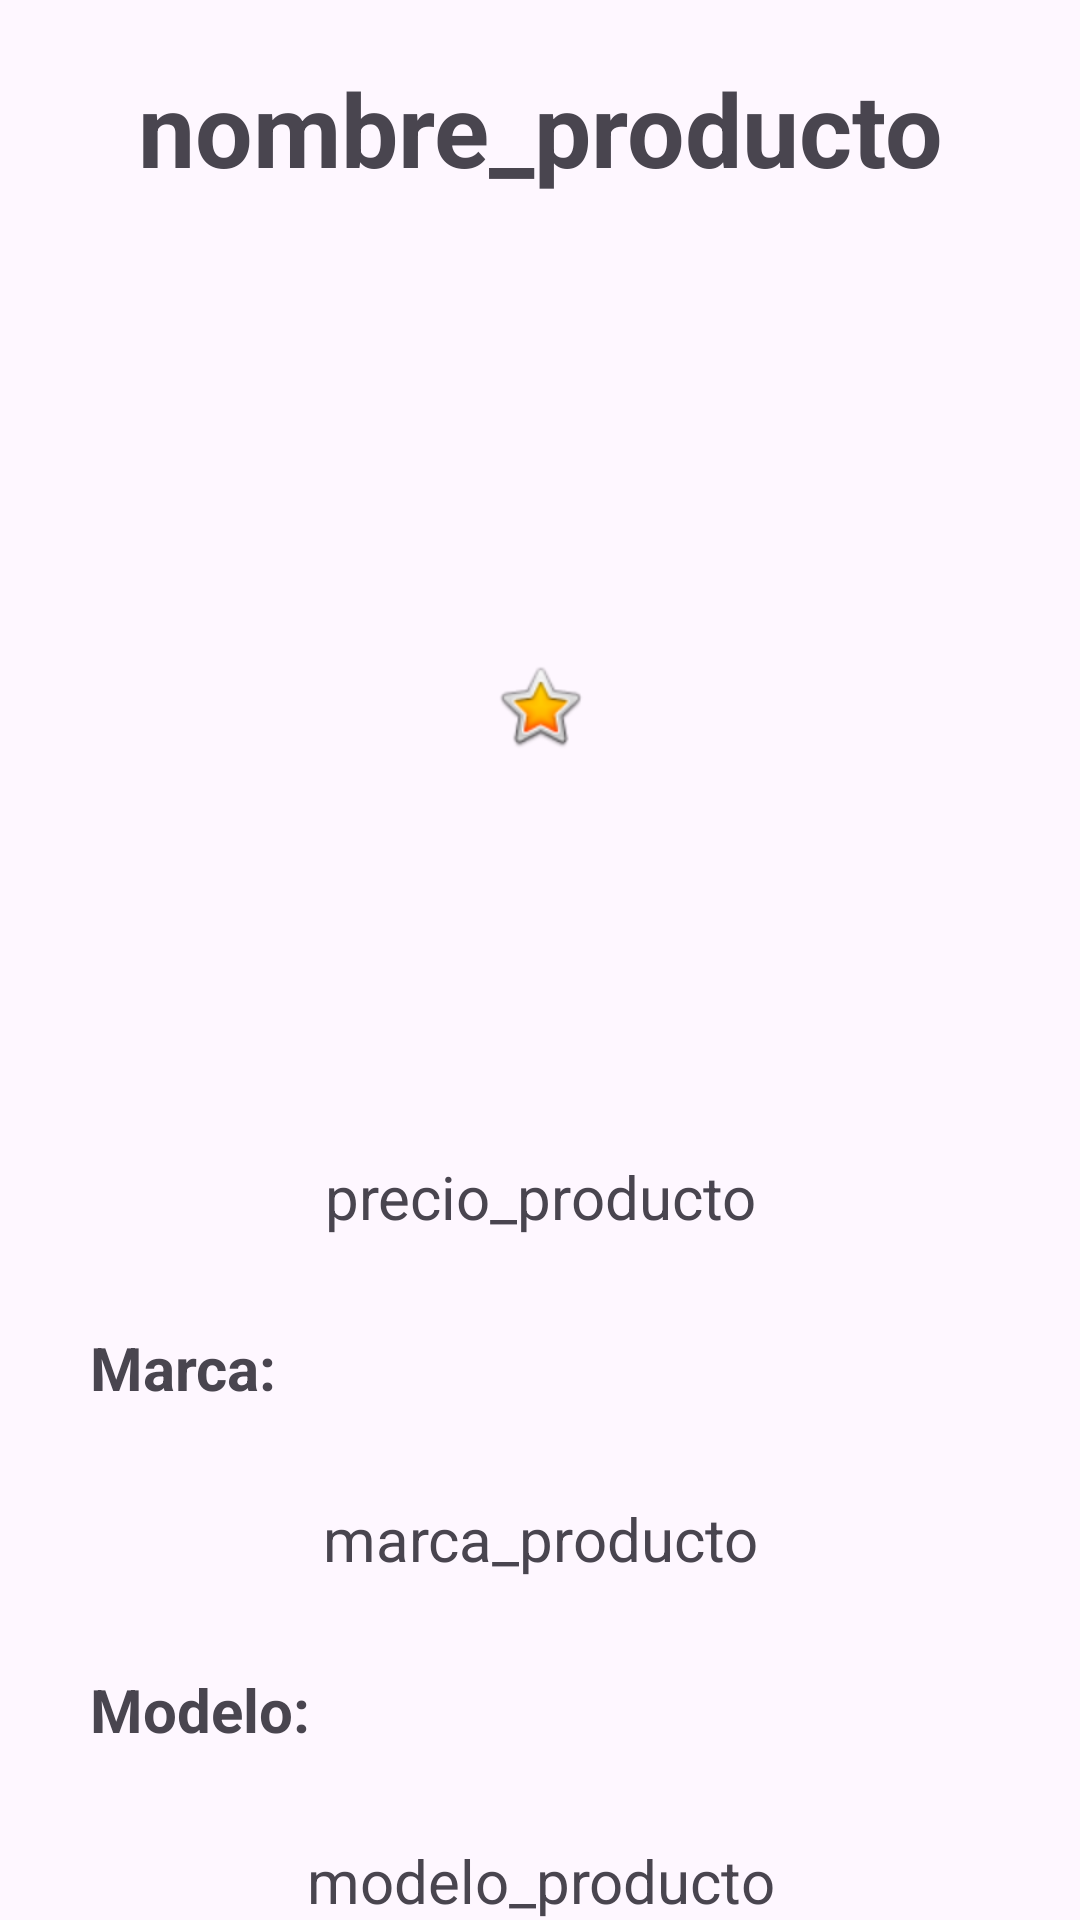

Named icons in this screenshot (1080w x 1920h) and their bounding boxes, (x1, y1, x2, y2):
star on: (501, 668, 581, 746)
